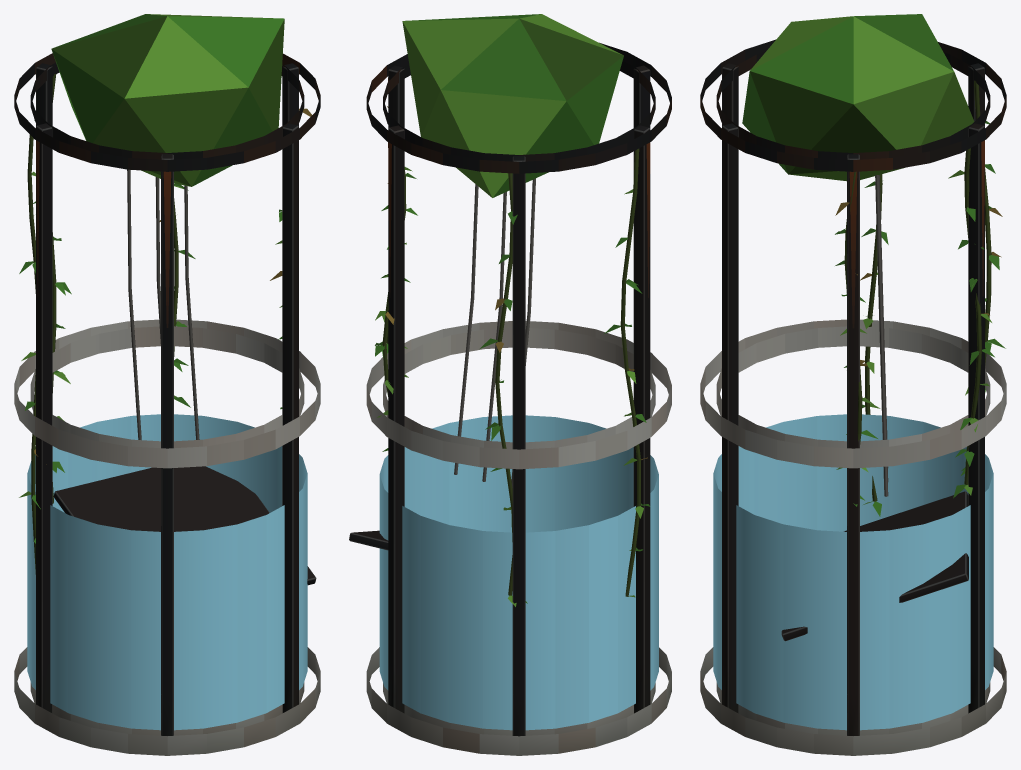
Rendered from elevator_ruin.glb.
3 renders of one model, left to right at view 1: azimuth 30°, elevation 25°; view 2: azimuth 150°, elevation 25°; view 3: azimuth 270°, elevation 25°, orthographic.
Visible parts, largest first — view 1: Mesh, Glass; view 2: Mesh, Glass; view 3: Mesh, Glass.
Boxes of the visible parts, box(x1,y1,x2,y2) form: Mesh: box(14, 14, 320, 755); Glass: box(27, 414, 307, 730); Mesh: box(349, 14, 671, 755); Glass: box(379, 415, 658, 730); Mesh: box(700, 14, 1006, 755); Glass: box(713, 414, 993, 730).
Bounding box in the file's own units: 2.92 × 6.81 × 2.8.
